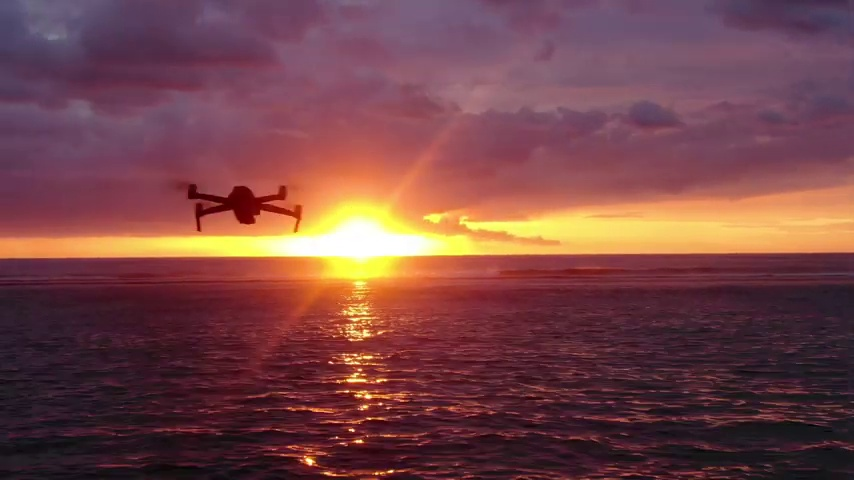drone: (184, 180, 302, 234)
